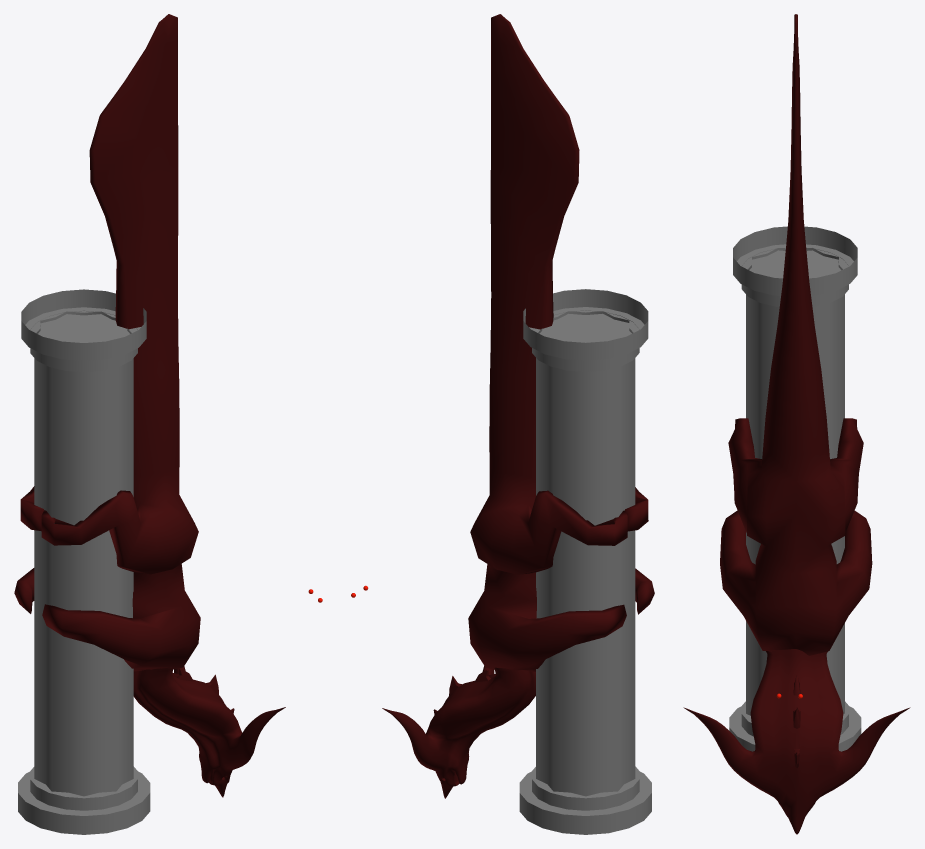
Rendered from Fantasy_Newt&Pillar_Unchecked_ND.fbx.
3 views of the same model, side by side, from view 1: azimuth 30°, elevation 25°; view 2: azimuth 150°, elevation 25°; view 3: azimuth 270°, elevation 25° (orthographic).
Visible parts, largest first — view 1: Newt_Body, Pilllar_Middle, Newt_Head, Pillar_Top, Pillar_Bottom; view 2: Newt_Body, Pilllar_Middle, Newt_Head, Pillar_Top, Pillar_Bottom; view 3: Newt_Body, Newt_Head, Pilllar_Middle, Pillar_Top, Pillar_Bottom.
Part boxes in pixels (x1,y1,x2,y2): Newt_Body: (14,14,200,671); Pilllar_Middle: (34,311,133,796); Newt_Head: (133,666,285,797); Pillar_Top: (21,289,146,372); Pillar_Bottom: (18,766,150,834); Newt_Body: (468,14,654,671); Pilllar_Middle: (536,311,635,796); Newt_Head: (382,666,535,798); Pillar_Top: (523,289,648,371); Pillar_Bottom: (519,766,651,834); Newt_Body: (720,14,872,655); Newt_Head: (683,649,910,834); Pilllar_Middle: (746,248,844,715); Pillar_Top: (733,226,857,307); Pillar_Bottom: (729,701,861,751).
Bounding box in the file's own units: 151 × 397 × 103.
